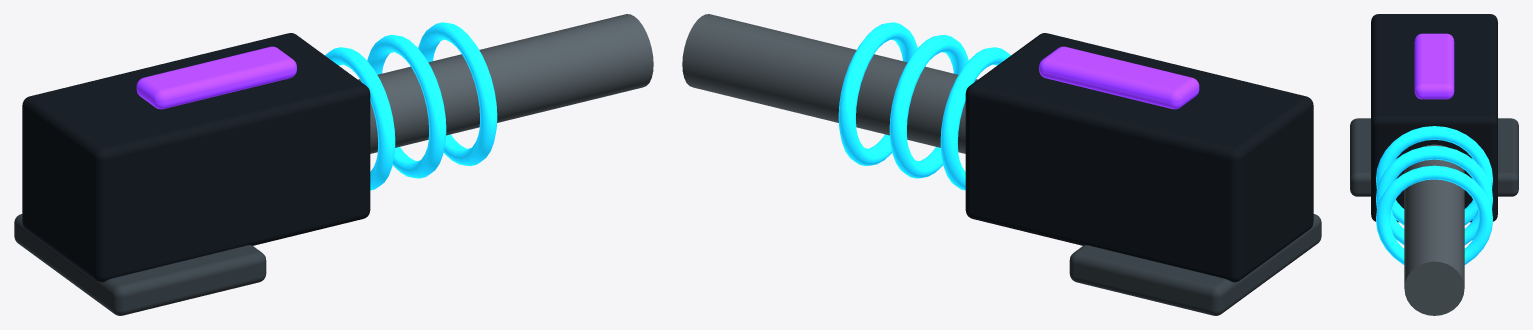
The picture shows the model from 3 angles, left to right: view 1: azimuth 30°, elevation 25°; view 2: azimuth 150°, elevation 25°; view 3: azimuth 270°, elevation 25°; orthographic projection. The views are drawn at different scales.
Size of the model in its own units: 5.65 by 1.65 by 1.8.
